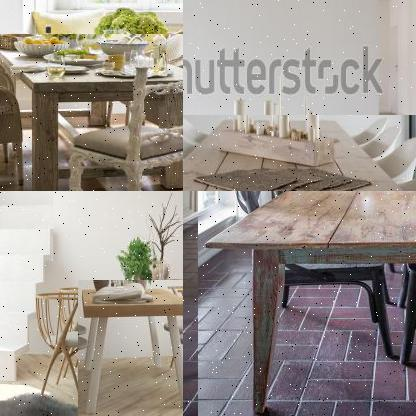table: (198, 191, 415, 415), (0, 34, 182, 190), (183, 115, 415, 190), (78, 280, 182, 415)
